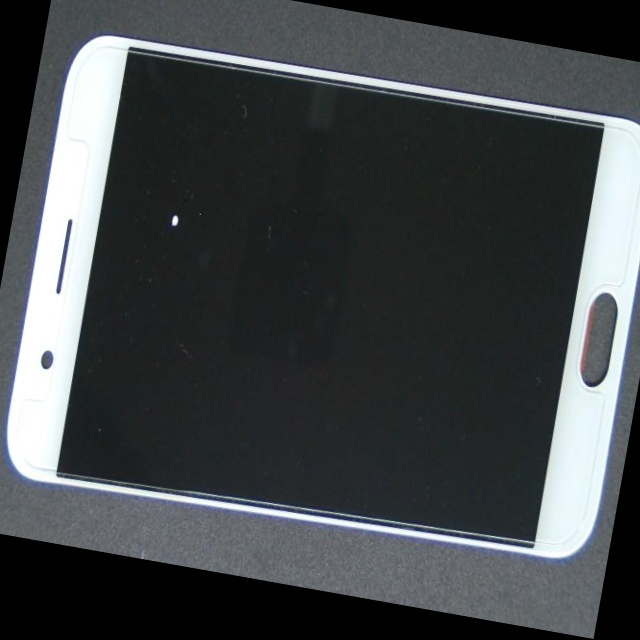stain: (60, 103, 252, 391)
